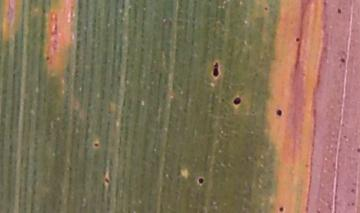tarspot: (211, 60, 221, 78), (231, 96, 243, 106), (196, 176, 206, 186), (102, 176, 113, 185), (275, 108, 284, 117), (91, 141, 101, 149), (339, 57, 347, 65), (44, 55, 52, 62), (278, 206, 285, 213), (336, 7, 342, 15), (262, 6, 269, 12), (350, 188, 356, 194), (350, 201, 356, 207), (295, 37, 301, 42), (356, 145, 360, 152)
